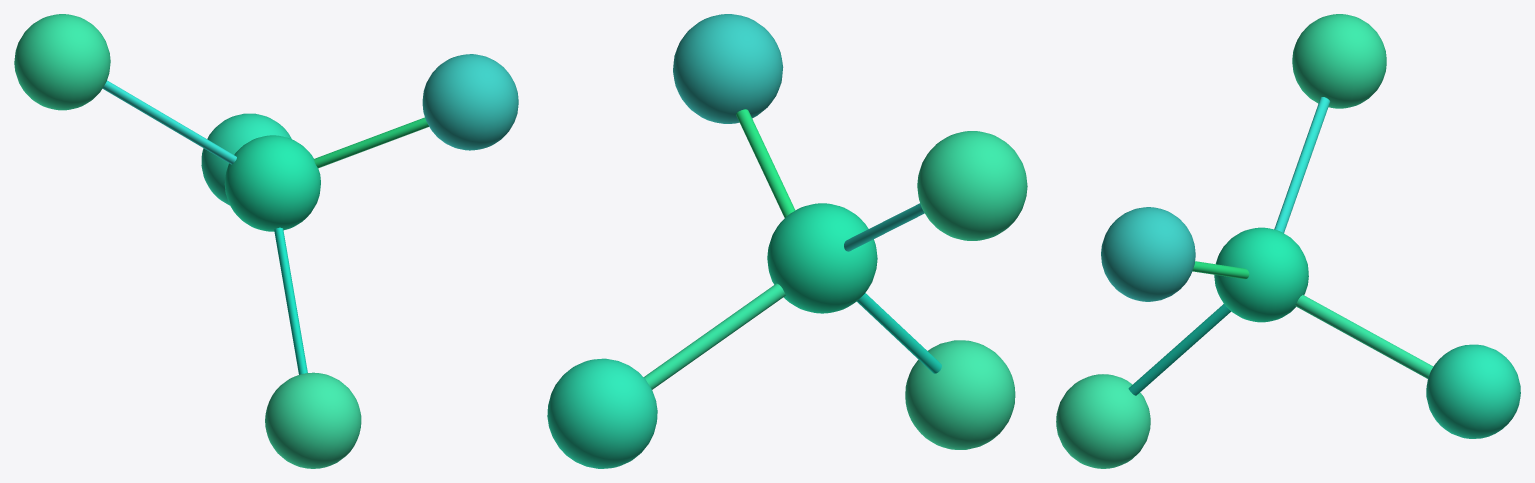
File: loder.glb
The picture shows the model from 3 angles, left to right: view 1: azimuth 30°, elevation 25°; view 2: azimuth 150°, elevation 25°; view 3: azimuth 270°, elevation 25°; orthographic projection. The views are drawn at different scales.
Visible parts, largest first — view 1: Sphere.004, Sphere.003, Sphere.001, Sphere, Sphere.002, Cylinder.002, Cylinder.004, Cylinder; view 2: Sphere.002, Sphere.001, Sphere.004, Sphere.003, Sphere, Cylinder.001, Cylinder, Cylinder.004, Cylinder.002; view 3: Sphere.004, Sphere.002, Sphere.003, Sphere.001, Sphere, Cylinder.001, Cylinder.002, Cylinder.004, Cylinder.
Part boxes in pixels (x1,y1,x2,y2): Sphere.004: [422, 54, 518, 150]; Sphere.003: [265, 372, 361, 468]; Sphere.001: [14, 14, 110, 110]; Sphere: [224, 135, 320, 231]; Sphere.002: [201, 113, 291, 205]; Cylinder.002: [102, 80, 236, 164]; Cylinder.004: [274, 227, 307, 374]; Cylinder: [314, 117, 428, 168]; Sphere.002: [547, 358, 657, 468]; Sphere.001: [917, 131, 1027, 240]; Sphere.004: [673, 14, 783, 123]; Sphere.003: [905, 340, 1015, 449]; Sphere: [767, 203, 877, 313]; Cylinder.001: [643, 283, 785, 389]; Cylinder: [736, 109, 795, 217]; Cylinder.004: [857, 293, 941, 373]; Cylinder.002: [844, 203, 924, 251]; Sphere.004: [1101, 207, 1195, 301]; Sphere.002: [1426, 344, 1520, 438]; Sphere.003: [1056, 374, 1150, 468]; Sphere.001: [1292, 14, 1386, 108]; Sphere: [1214, 227, 1308, 322]; Cylinder.001: [1295, 295, 1433, 378]; Cylinder.002: [1274, 97, 1330, 233]; Cylinder.004: [1128, 304, 1230, 395]; Cylinder: [1192, 261, 1249, 279].
Bounding box in the file's own units: 16.65 × 15.74 × 17.3.
